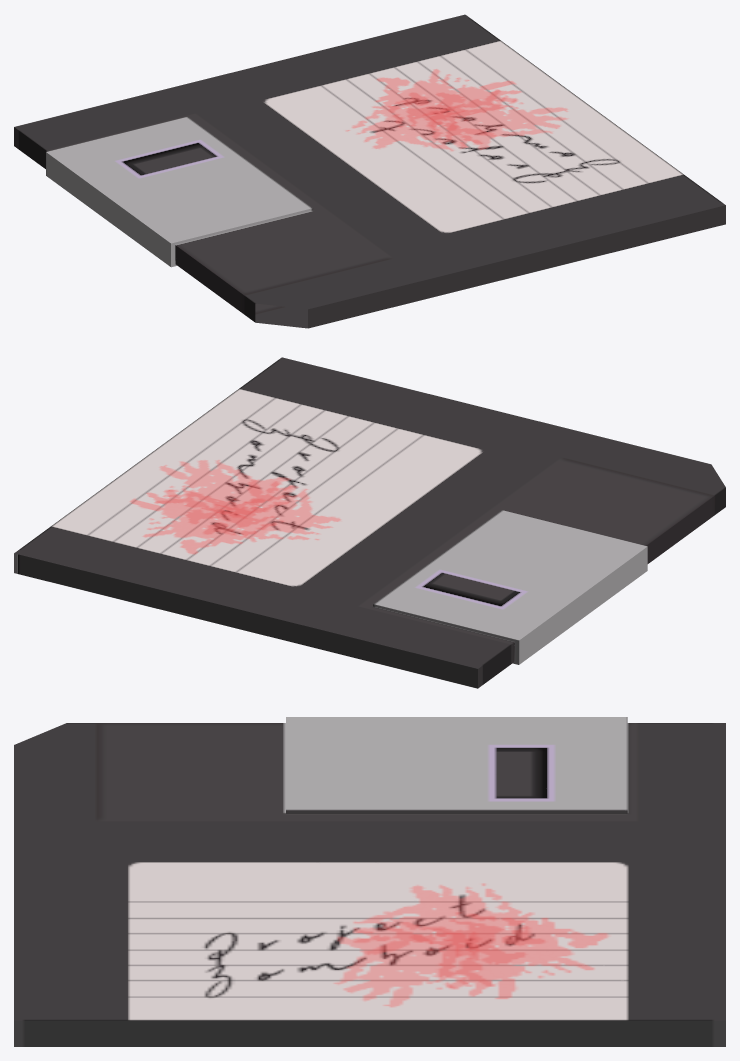
The model's file is Floppy.fbx.
3 renders of one model, top to bottom at view 1: azimuth 30°, elevation 25°; view 2: azimuth 150°, elevation 25°; view 3: azimuth 270°, elevation 25°, orthographic. The views are drawn at different scales.
Parts seen in each view (by area): view 1: Cube; view 2: Cube; view 3: Cube.
Boxes of the visible parts, x1,y1,x2,y2 form: Cube: [14, 14, 725, 328]; Cube: [14, 357, 725, 688]; Cube: [14, 717, 725, 1046].
Bounding box in the file's own units: 0.0983 × 0.00508 × 0.0974.
